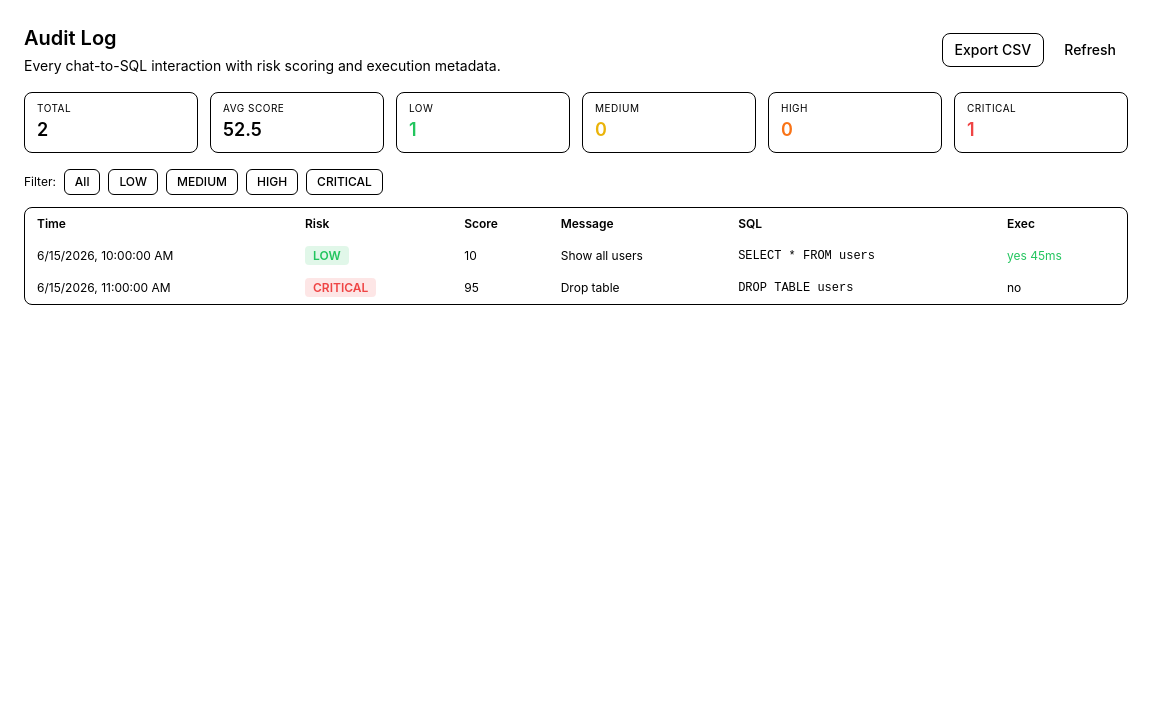
it: AuditPanel › shows detail panel when entry is clicked
The image size is (1152, 720).
Click the text "Show all users".
click(637, 256)  # box [549,240,726,272]
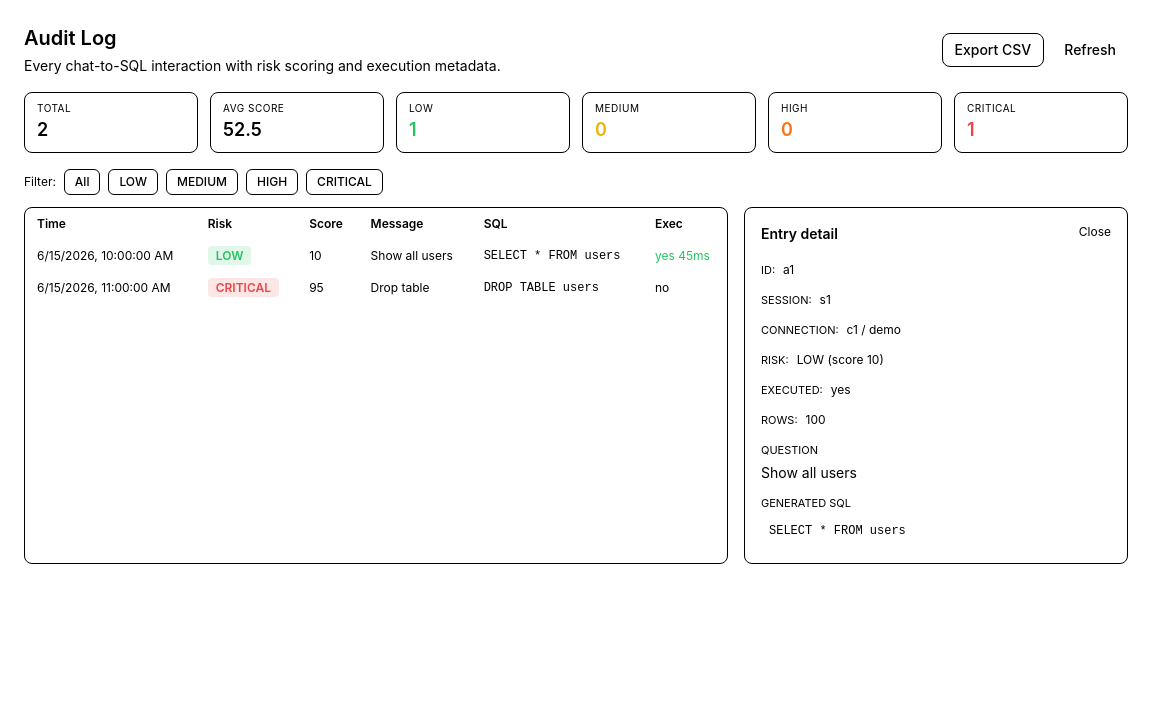
Expected: the heading "Entry detail" is shown, [761,224,838,244]
